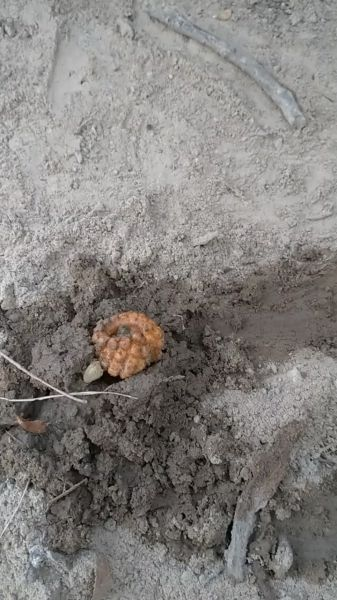eggs: (84, 304, 171, 384)
